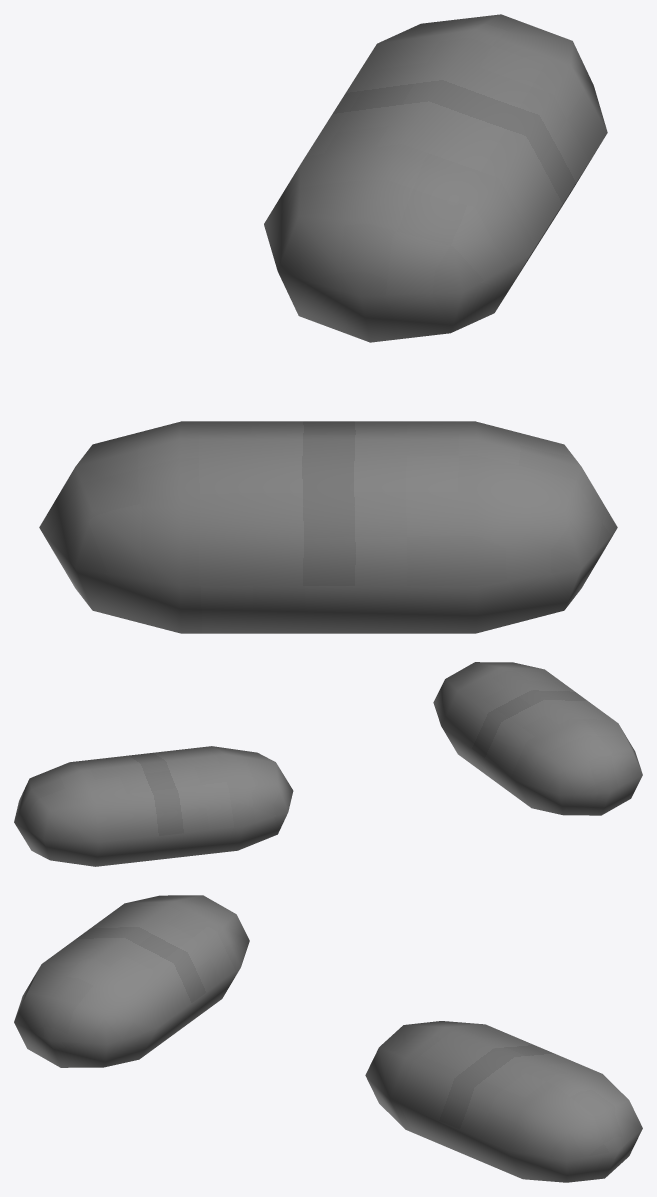
Rendered from pills_1.glb.
The picture shows the model from 3 angles, top to bottom: view 1: azimuth 30°, elevation 25°; view 2: azimuth 150°, elevation 25°; view 3: azimuth 270°, elevation 25°; orthographic projection. The views are drawn at different scales.
Visible parts, largest first — view 1: pills_1; view 2: pills_1; view 3: pills_1.
Boxes of the visible parts, <box> form: pills_1: <box>39,14,617,633</box>; pills_1: <box>14,662,642,866</box>; pills_1: <box>14,895,642,1182</box>.
Bounding box in the file's own units: 0.0648 × 0.0123 × 0.0711.
1 material, 1 textured.
